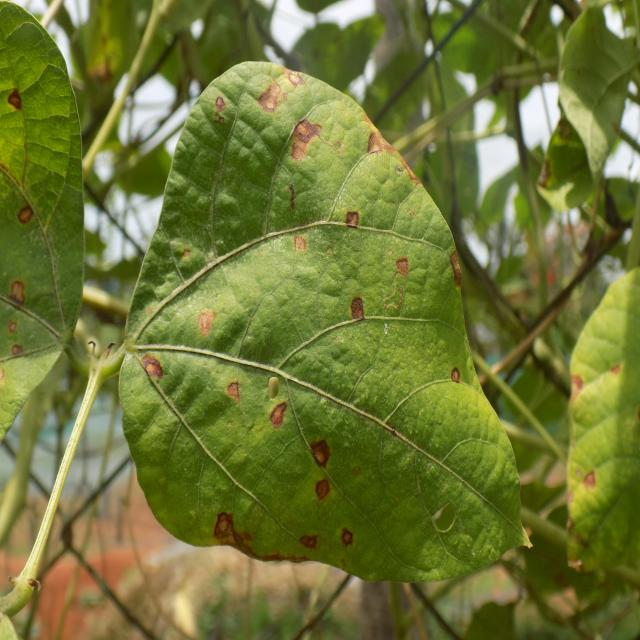Dolicos bean_cercospora leaf spot: (119, 62, 533, 590)
